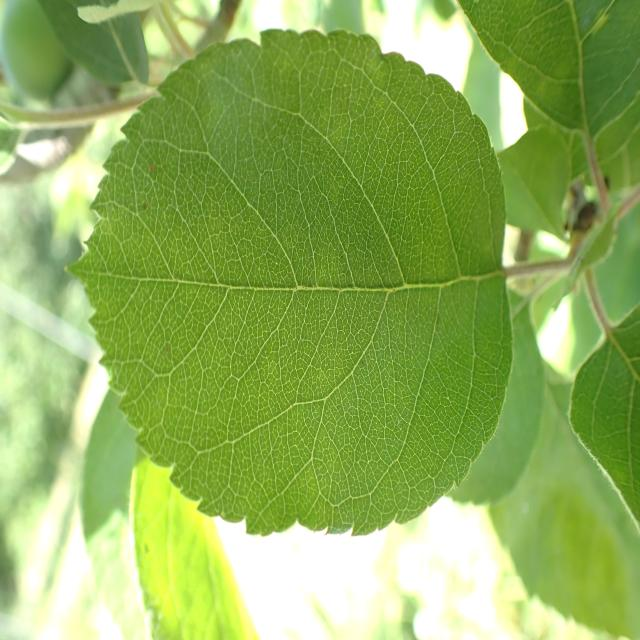healthy: (64, 26, 512, 538), (457, 1, 640, 160), (568, 302, 640, 534)
